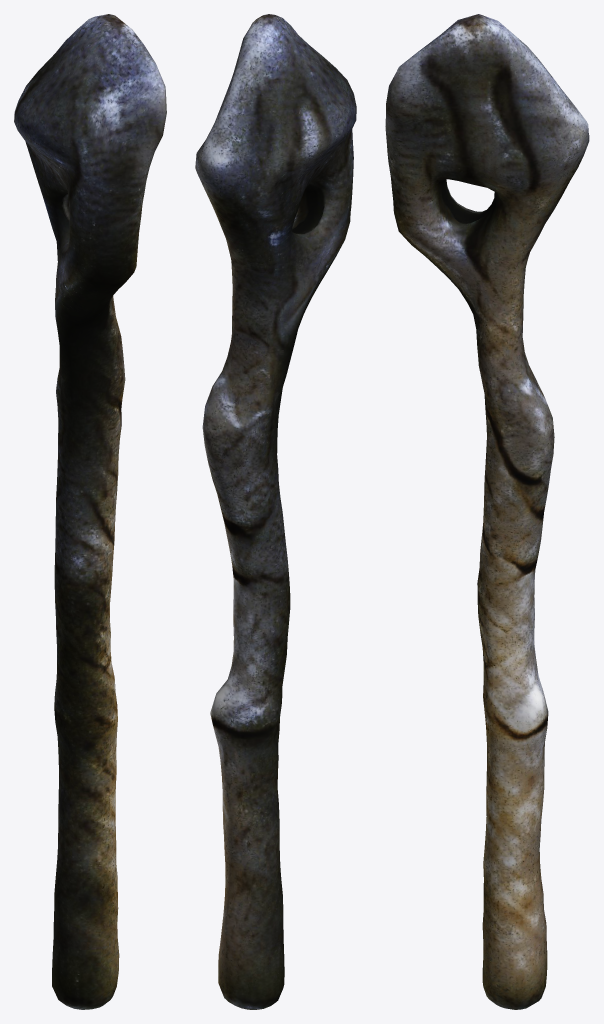
File: 6f50c6a0216f_88d0c459b5e6_stone_staff_min.glb
3 views of the same model, side by side, from view 1: azimuth 30°, elevation 25°; view 2: azimuth 150°, elevation 25°; view 3: azimuth 270°, elevation 25° (orthographic). The views are drawn at different scales.
Parts seen in each view (by area): view 1: mesh; view 2: mesh; view 3: mesh.
Part boxes in pixels (x1,y1,x2,y2): mesh: [14, 14, 166, 1009]; mesh: [195, 14, 356, 1009]; mesh: [385, 14, 589, 1009].
Size of the model in its own units: 0.1241 by 0.9994 by 0.1866.
Materials: 1 (1 with a texture image).
